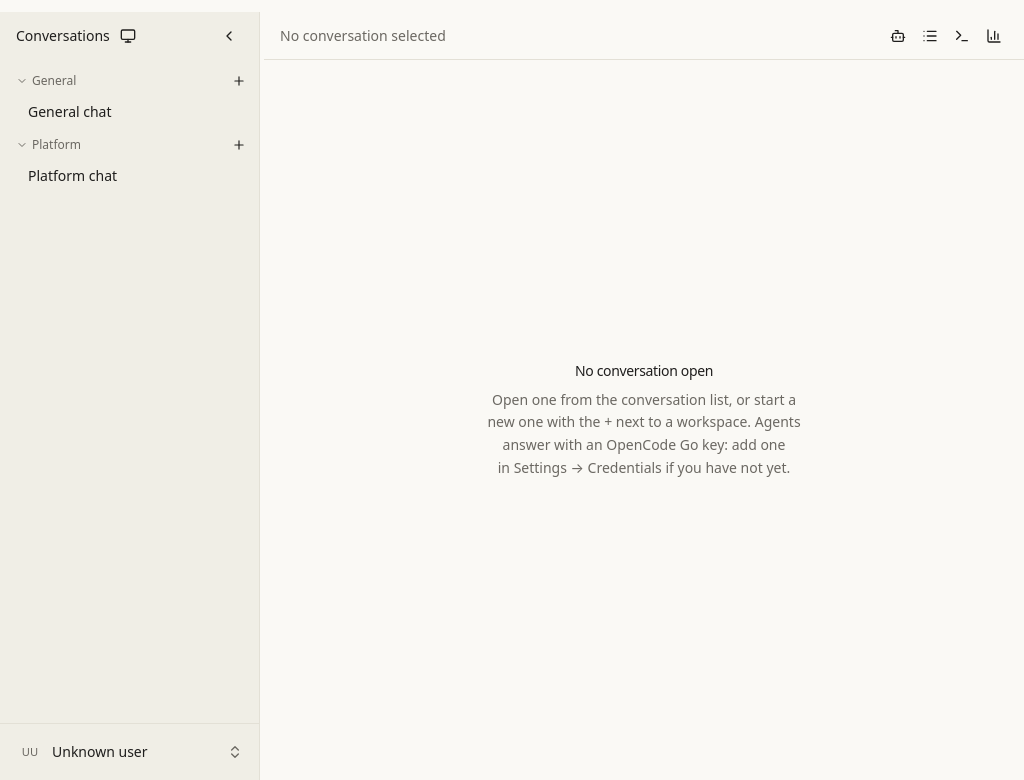
App › renames the open conversation from the topbar
The width and height of the screenshot is (1024, 780).
Click the button "General chat" at [130, 112], box [8,96,251,128]
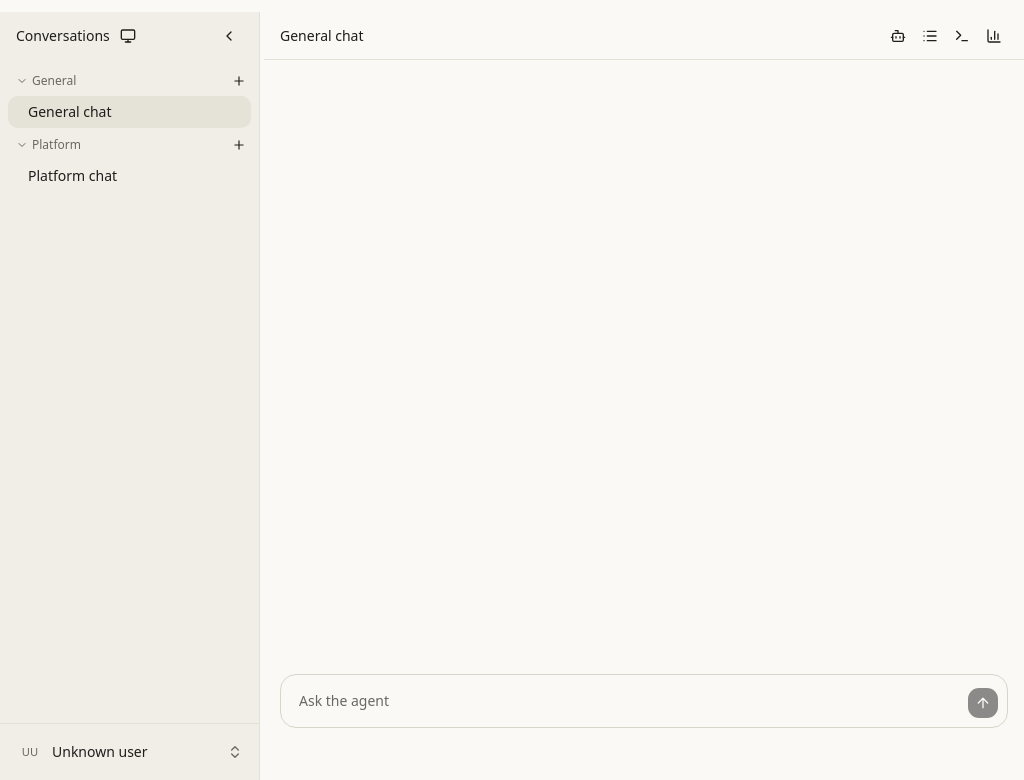
Click the button with aria-label "Rename conversation" at [330, 36], box [280,26,380,46]
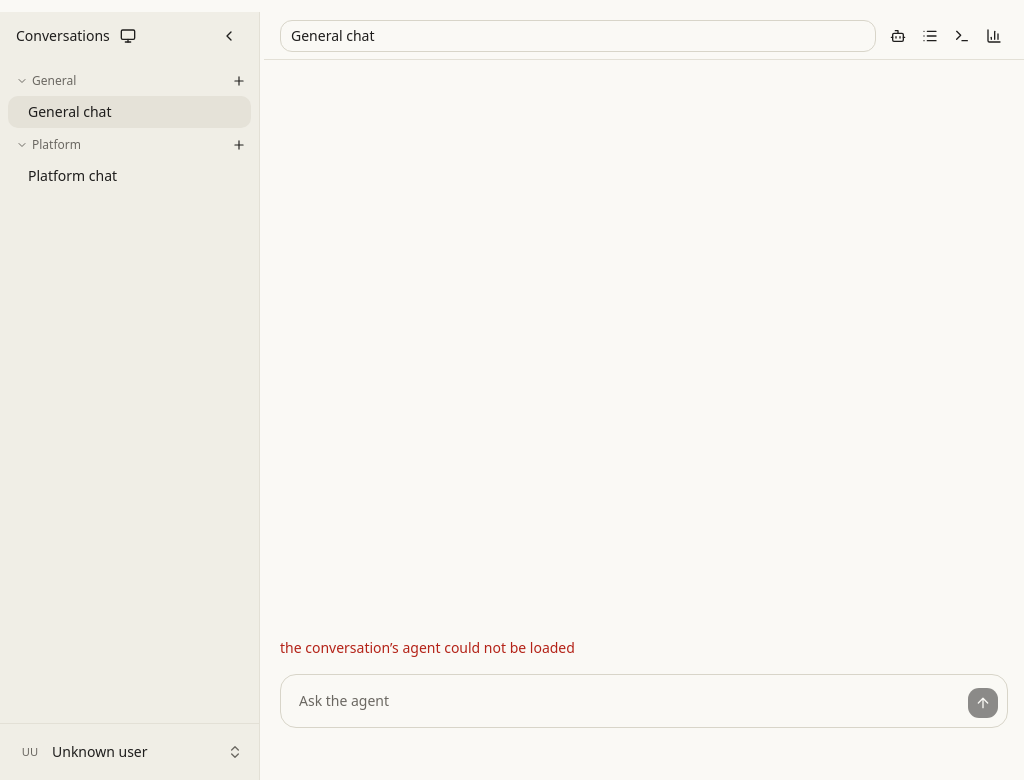
Replace the text in the field named "Conversation title" with "Renamed" at [578, 36], box [280,20,876,52]
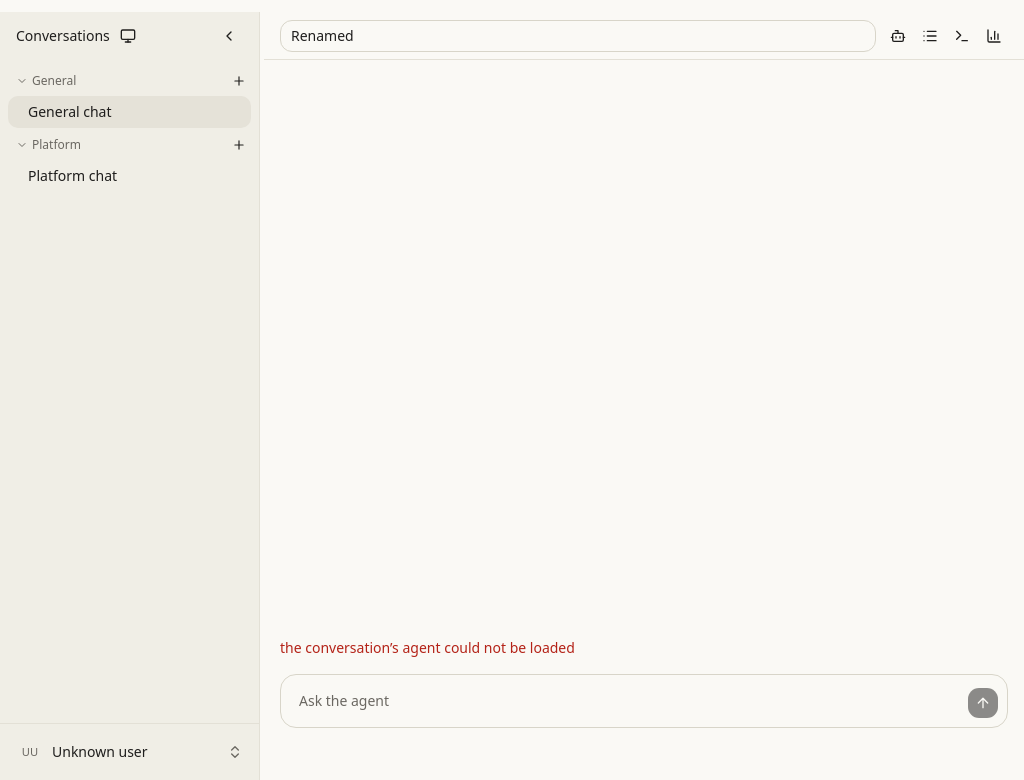
Submit the form from the field named "Conversation title", box [280,20,876,52]
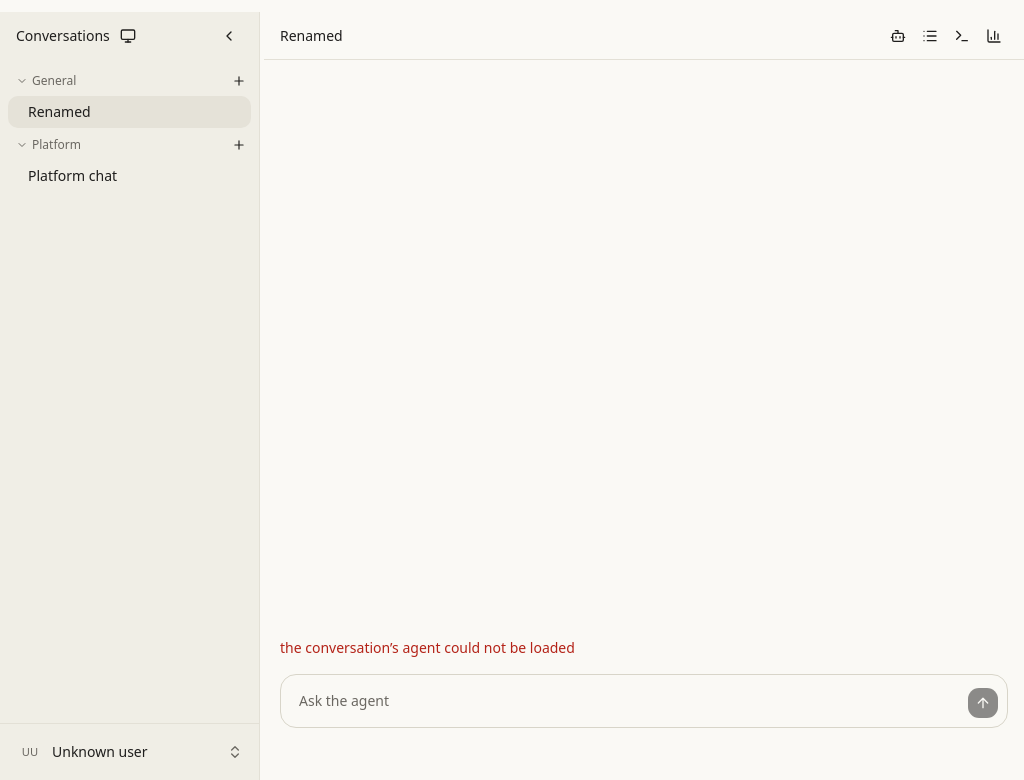
Expected: the text "Renamed" is shown, [280,26,343,46]
